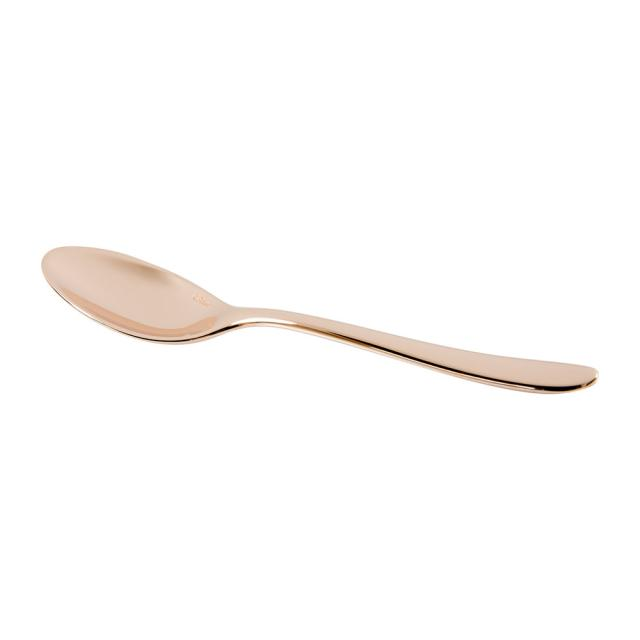spoon: (29, 232, 606, 410)
